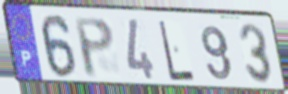3: (238, 22, 273, 87)
4: (125, 16, 156, 83)
6: (39, 13, 78, 81)
9: (199, 24, 233, 82)
L: (157, 18, 197, 83)
P: (72, 16, 116, 80)
